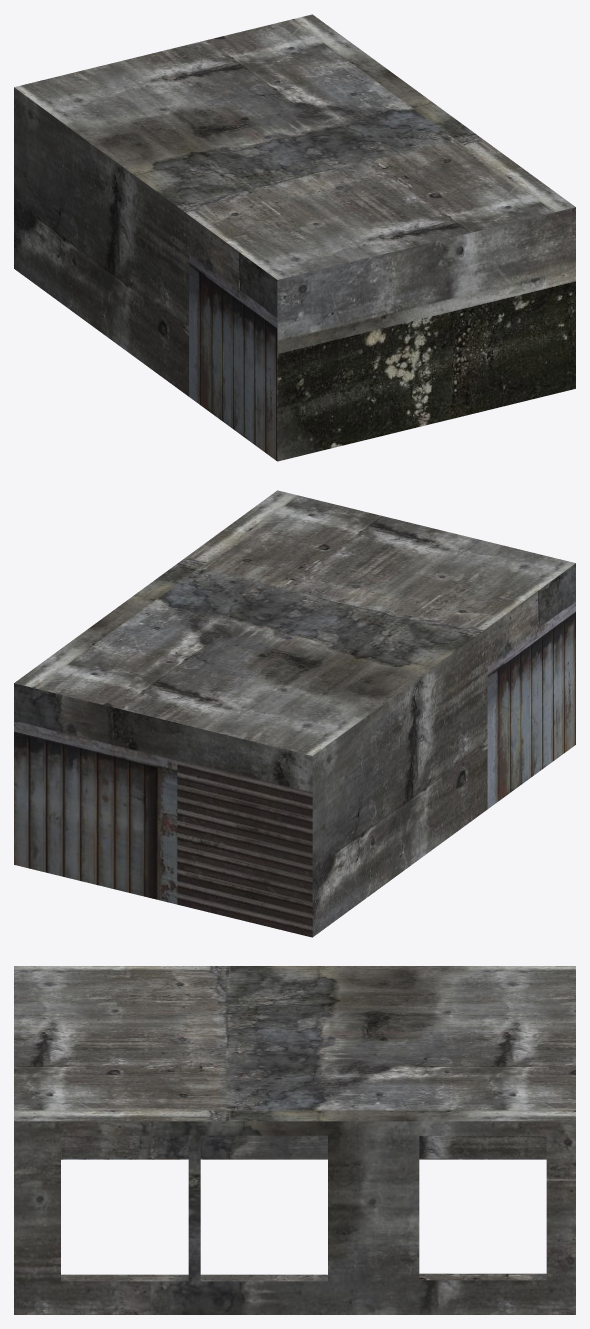
3 renders of one model, top to bottom at view 1: azimuth 30°, elevation 25°; view 2: azimuth 150°, elevation 25°; view 3: azimuth 270°, elevation 25°, orthographic. The views are drawn at different scales.
Visible parts, largest first — view 1: Cube.069; view 2: Cube.069; view 3: Cube.069.
Boxes of the visible parts, <box> form: Cube.069: <box>14,14,575,461</box>; Cube.069: <box>14,490,575,937</box>; Cube.069: <box>14,966,575,1314</box>.
Bounding box in the file's own units: 1.19 × 0.6945 × 1.83.
1 material, 1 textured.
